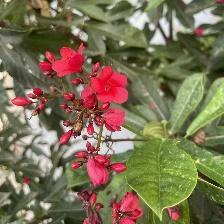jatropha: (90, 66, 133, 112)
